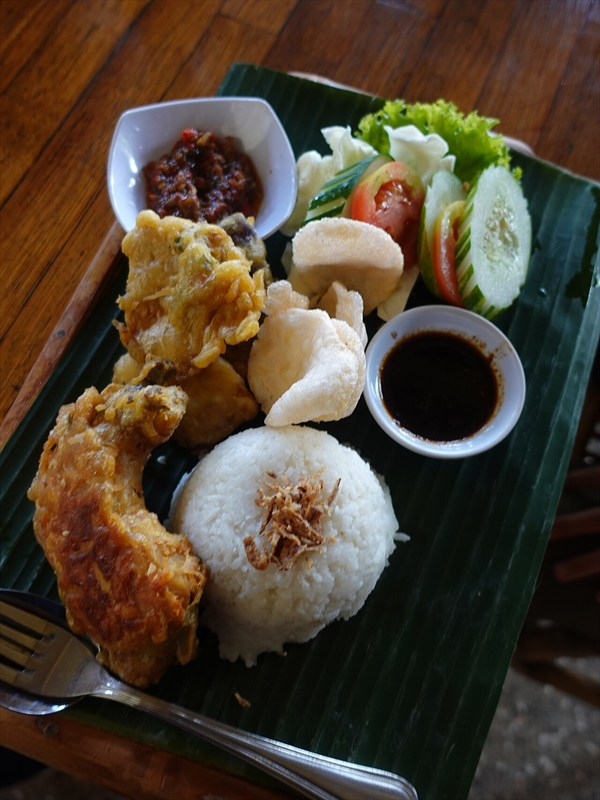Ayam Goreng: (88, 99, 524, 608)
